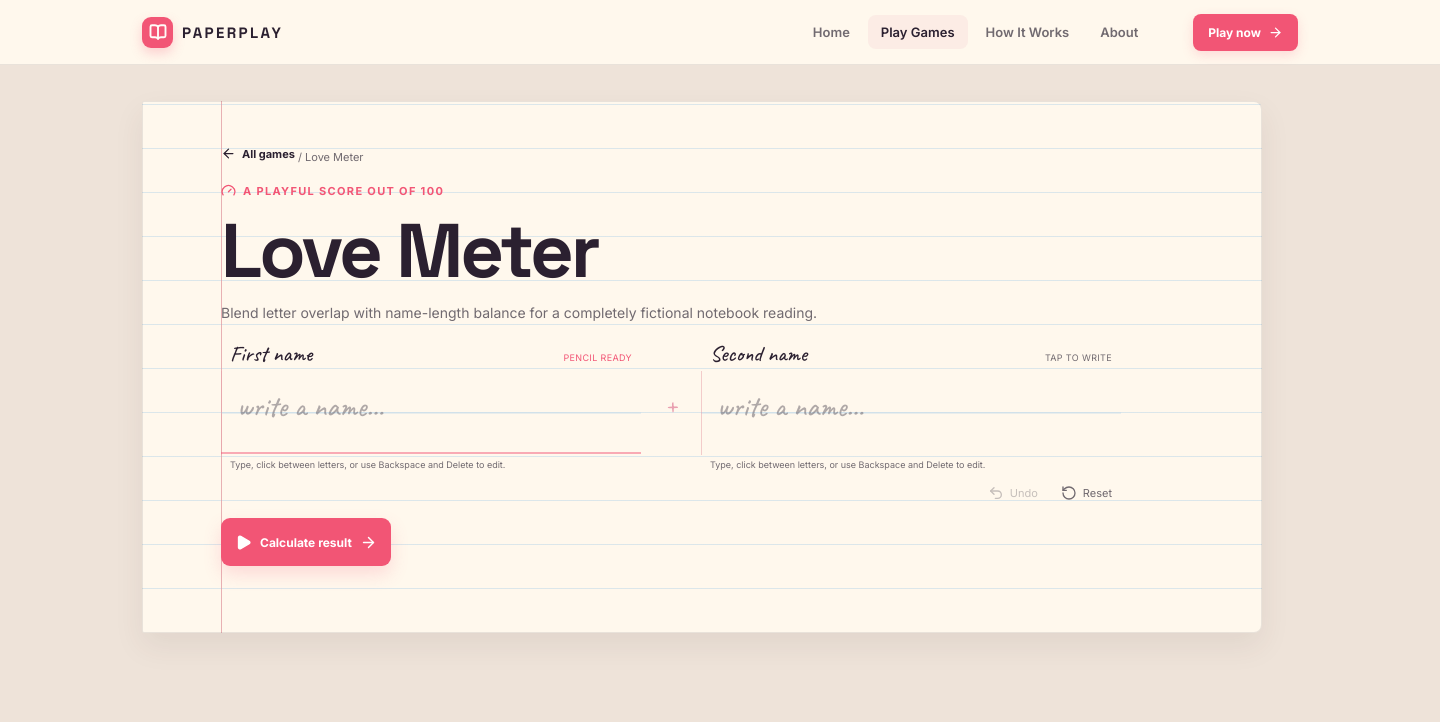
it: PAPERPLAY user flow › opens and calculates /games/love-meter
The image size is (1440, 722).
Expected: the heading "Love Meter" is shown, [221,202,598,299]
Type "Anna" into the text box labelled "First name" at (431, 413), box [221,371,641,455]
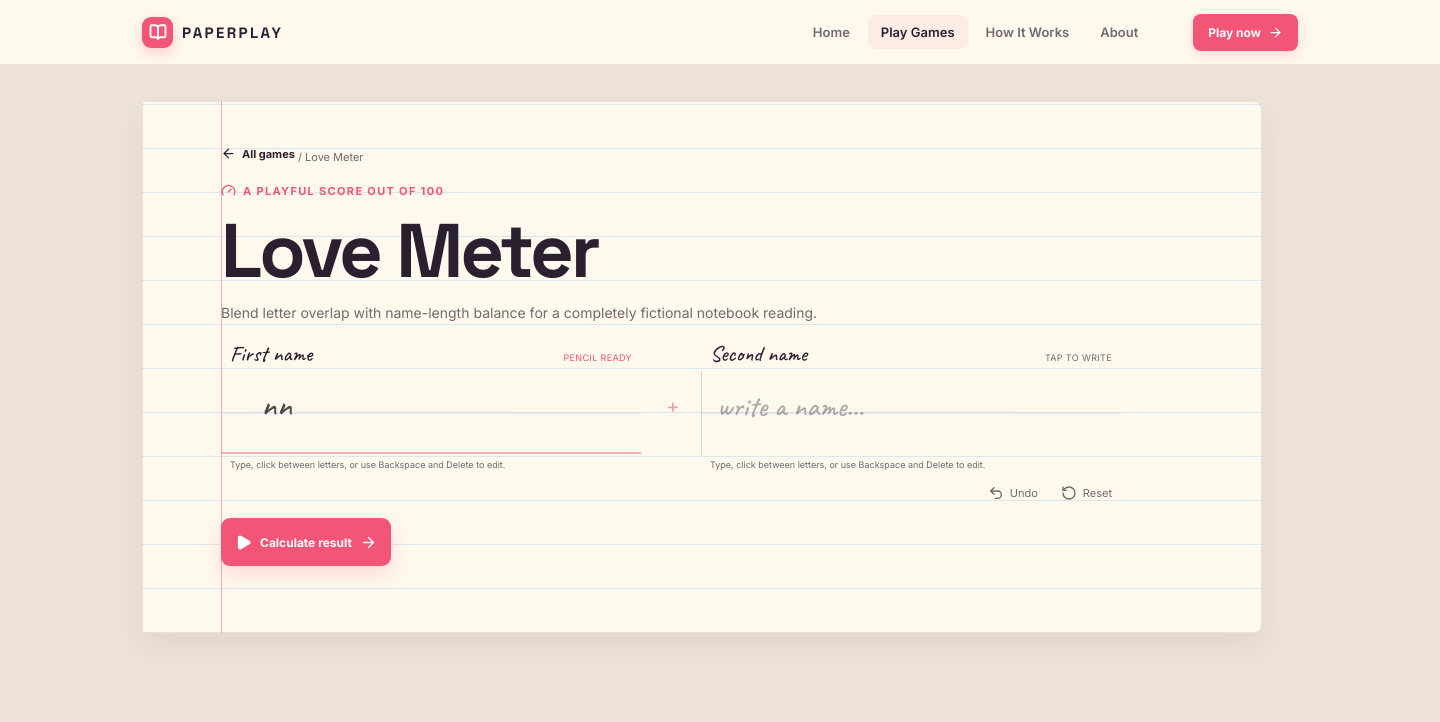
Type "Aman" into the text box labelled "Second name" at (911, 413), box [701,371,1121,455]
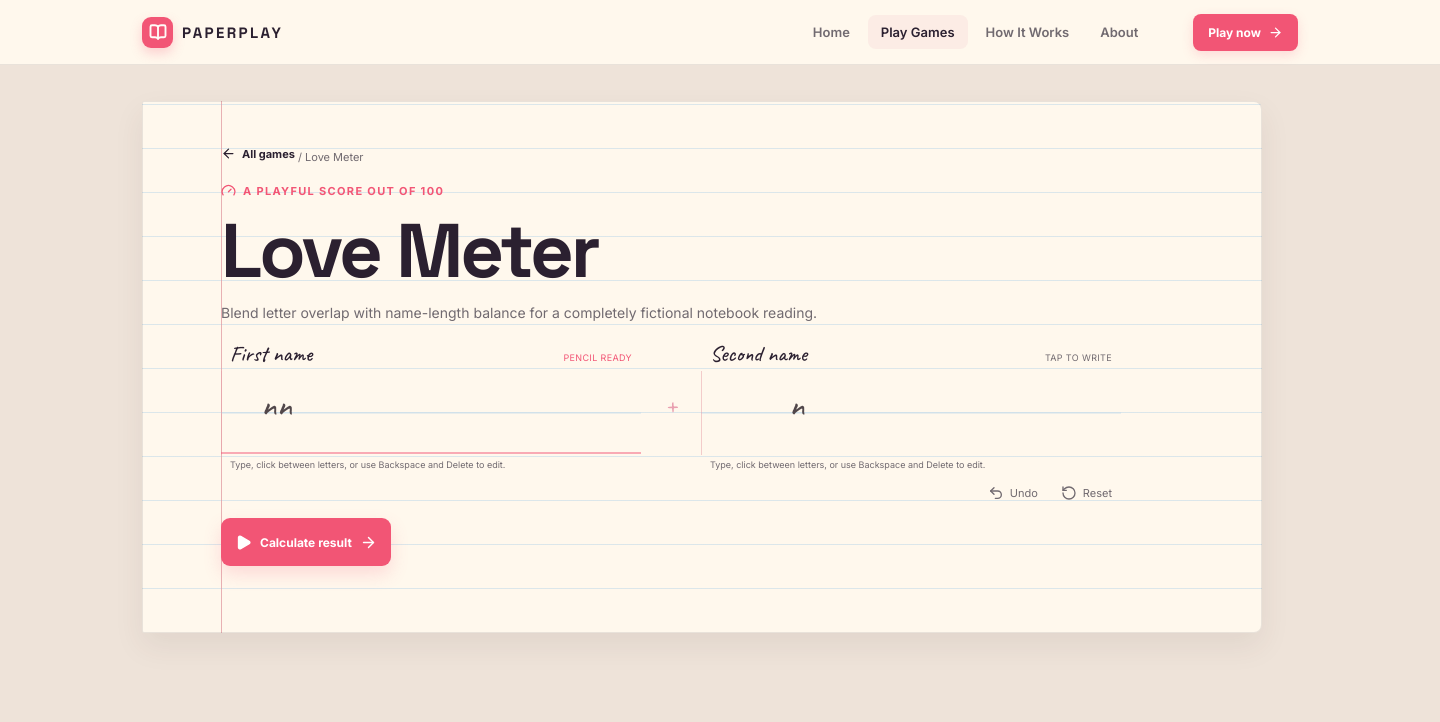
Click the button "Calculate result" at (306, 542), box [221,518,391,566]
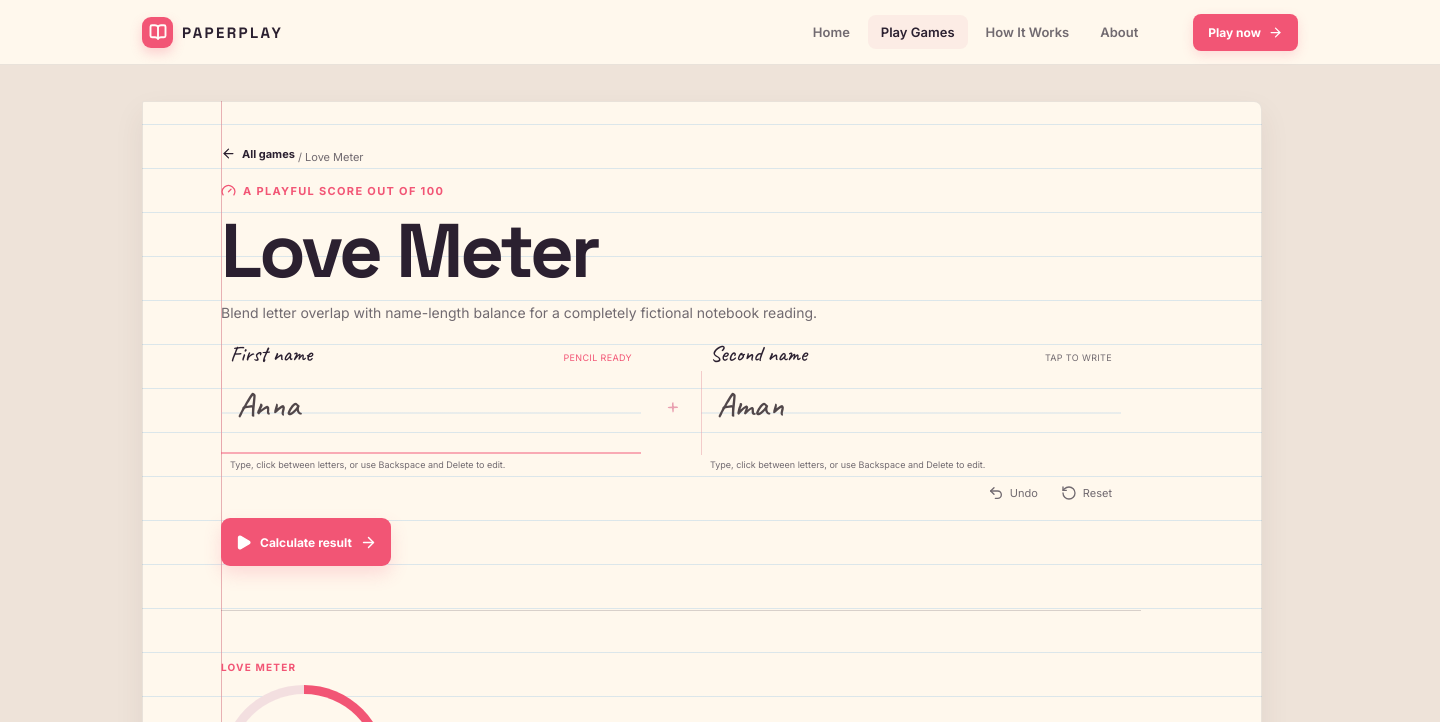
Expected: the text "Love Meter" is shown, [221,661,296,673]
